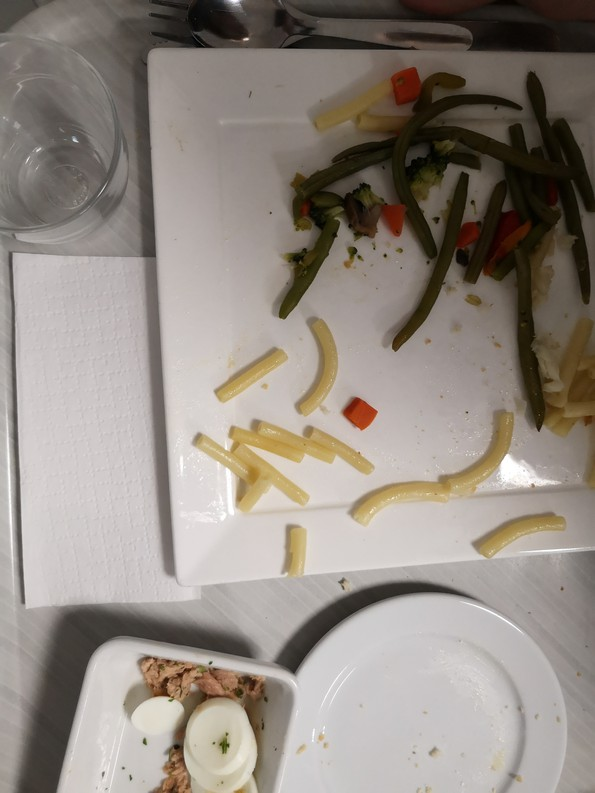orga: (314, 75, 595, 435), (135, 659, 258, 793), (225, 418, 330, 574)
trash: (7, 244, 204, 622)
